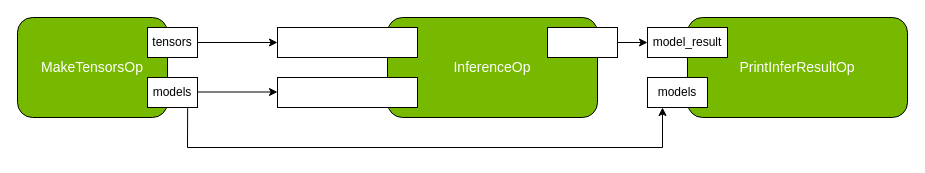
This 925x173 diagram has some shape labels left out. The shapes that lost their labels are listed below. From the top down, each one's box as (x1, y1, x2, y2) in pixels, then its label:
(276, 26, 418, 58): receivers
(546, 26, 618, 58): transmitter
(276, 76, 418, 108): model_activation_specs
